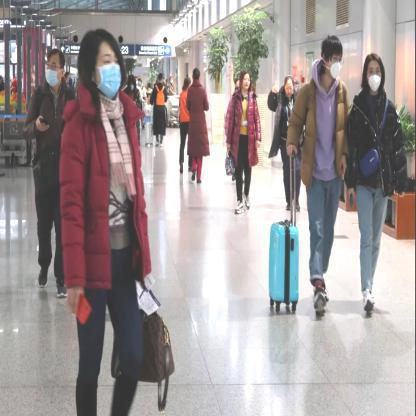without_mask: (283, 82, 294, 97), (242, 75, 251, 90)
